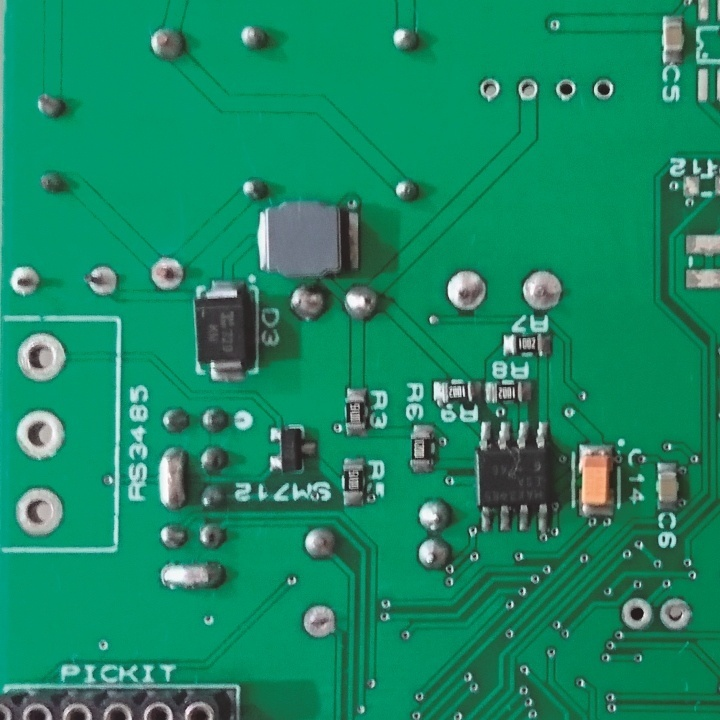F: (14, 328, 70, 384), (13, 405, 66, 462), (13, 485, 64, 538), (519, 266, 565, 312), (443, 268, 487, 312), (656, 593, 696, 633), (296, 603, 339, 640), (82, 260, 119, 302), (148, 255, 184, 293), (7, 263, 43, 301), (619, 598, 653, 626), (478, 75, 504, 104), (515, 75, 540, 105), (590, 76, 615, 103), (554, 75, 577, 103)
P: (159, 561, 227, 592), (156, 443, 186, 513)
